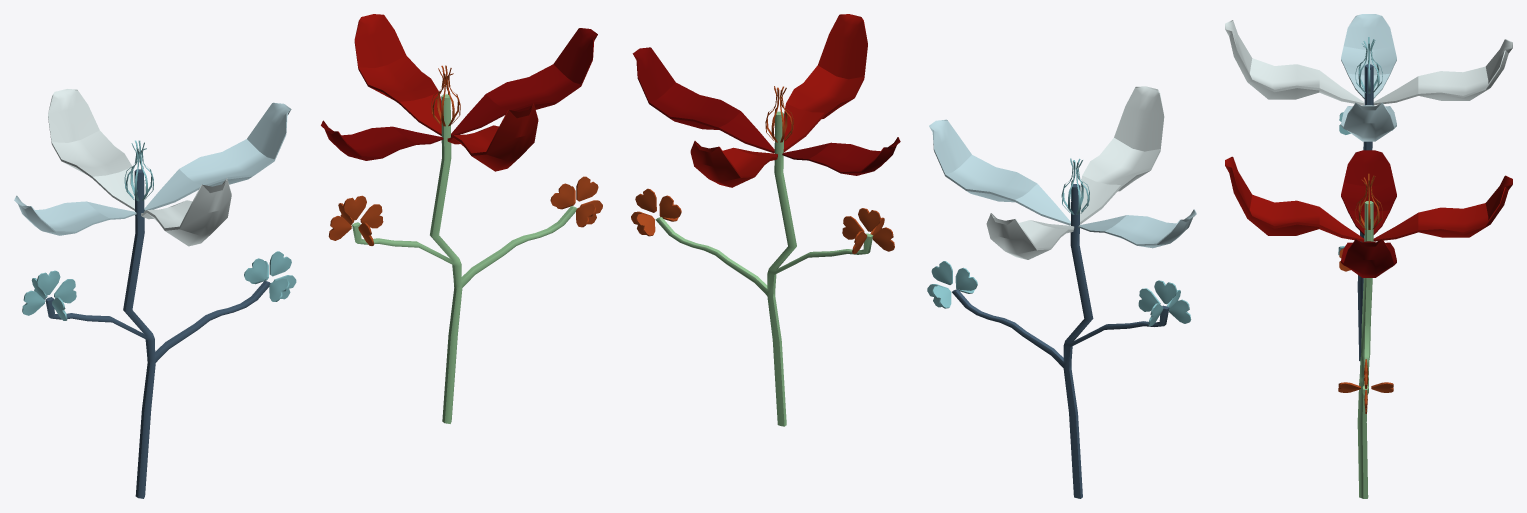
File: Planta_Cura_Aberta_Estações.fbx
3 renders of one model, left to right at view 1: azimuth 30°, elevation 25°; view 2: azimuth 150°, elevation 25°; view 3: azimuth 270°, elevation 25°, orthographic. The views are drawn at different scales.
Visible parts, largest first — view 1: pCube20 (×2), pCube23 (×2), pCube1 (×2), pCube22 (×2), pCube21 (×2); view 2: pCube22 (×2), pCube23 (×2), pCube1 (×2), pCube20 (×2), pCube21 (×2); view 3: pCube22 (×2), pCube20 (×2), pCube21 (×2), pCube23 (×2), pCube1 (×2).
Boxes of the visible parts, x1,y1,x2,y2 form: pCube20 (×2): (48,14,441,210); pCube23 (×2): (144,28,597,211); pCube1 (×2): (45,94,577,498); pCube22 (×2): (141,103,538,246); pCube21 (×2): (14,120,443,235); pCube22 (×2): (783,14,1164,224); pCube23 (×2): (632,47,1070,225); pCube1 (×2): (655,111,1169,498); pCube20 (×2): (690,141,1074,259); pCube21 (×2): (782,137,1196,248); pCube22 (×2): (1225,20,1364,241); pCube20 (×2): (1373,39,1512,241); pCube21 (×2): (1341,14,1396,235); pCube23 (×2): (1341,102,1396,277); pCube1 (×2): (1357,64,1373,498).
Size of the model in its own units: 3167 by 1910 by 1484.
